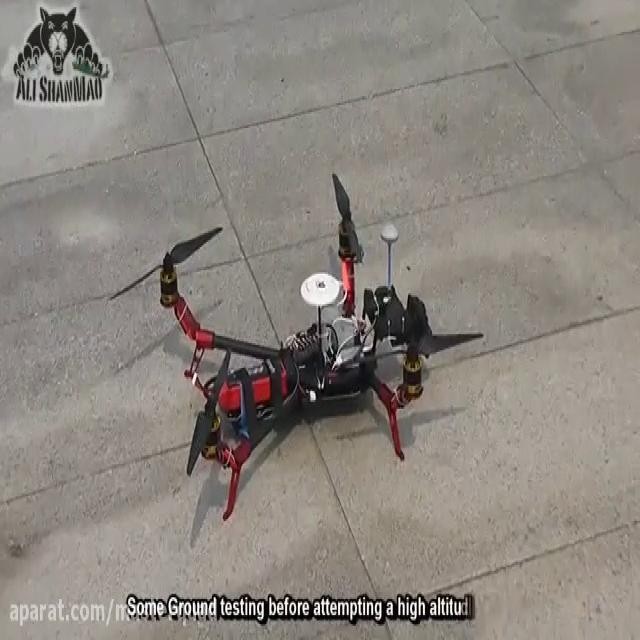drone: (104, 166, 485, 524)
